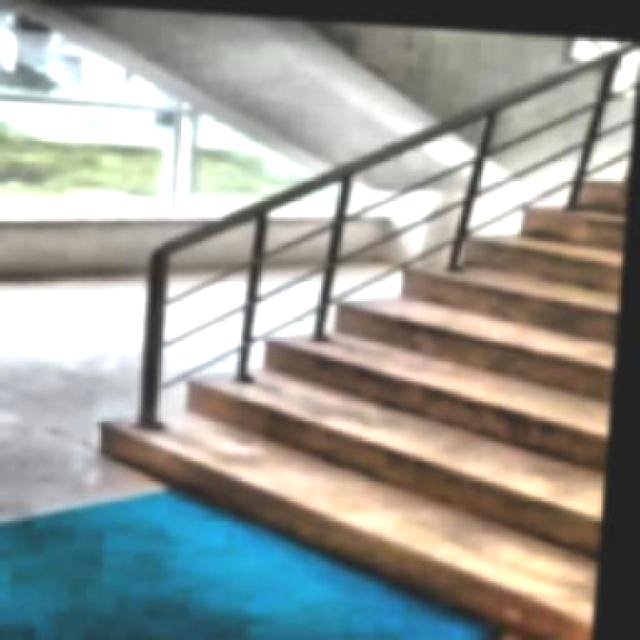stair: (93, 65, 636, 639)
